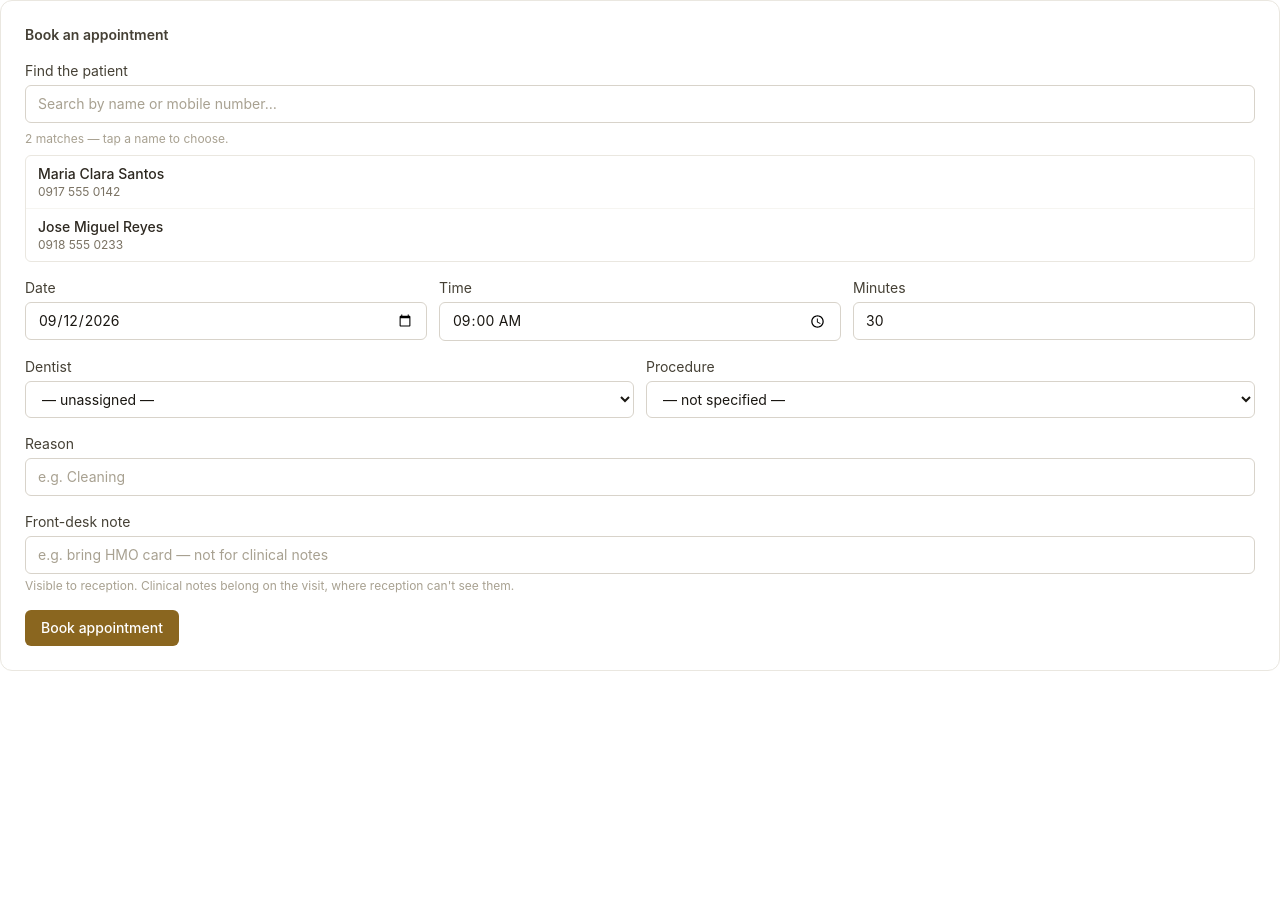
Test: BookAppointmentForm › keeps the chosen patient on screen while the form is filled in
What coordinates should you click on to do the following:
click the text "Maria Clara Santos"
I would click on:
 (101, 174)
Its box is [38, 165, 164, 182].
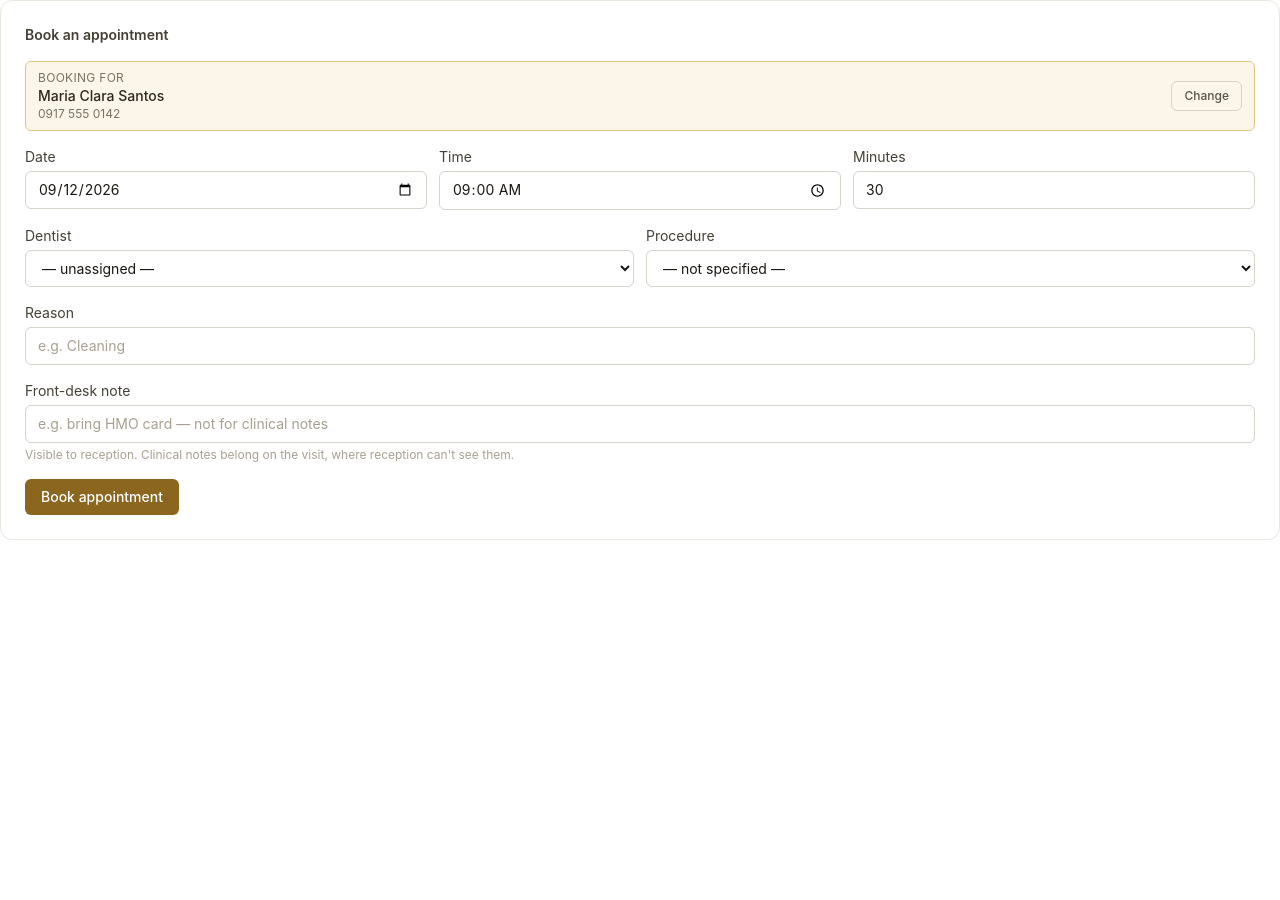
Check: the text "Maria Clara Santos" is shown, box [38, 86, 164, 106]
Check: the text "Booking for" is shown, box [38, 70, 124, 85]
Check: the label labelled "Find the patient" is gone
